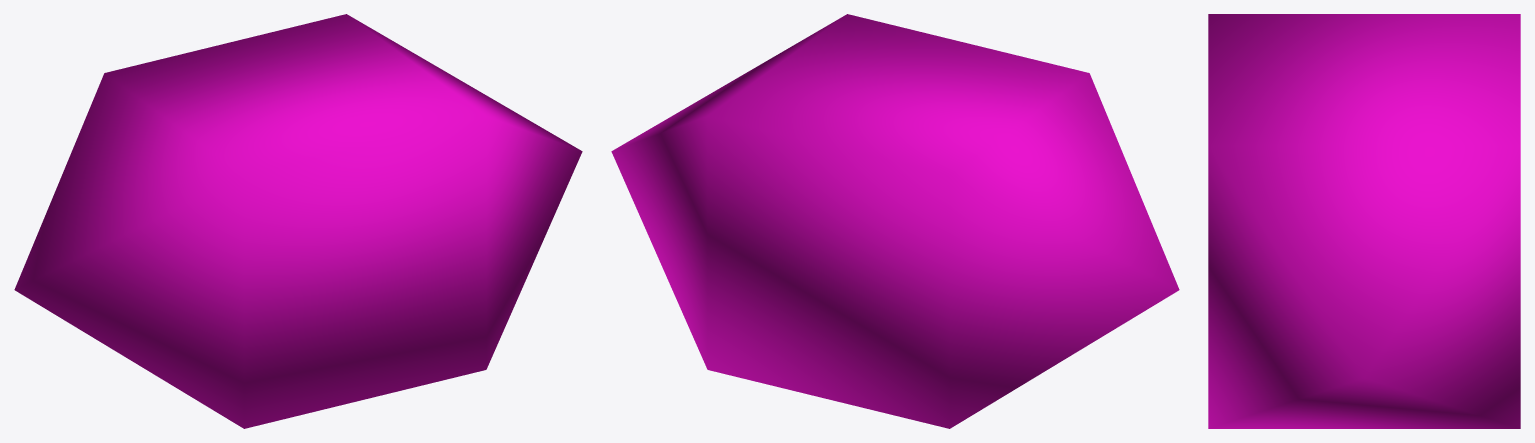
3 views of the same model, side by side, from view 1: azimuth 30°, elevation 25°; view 2: azimuth 150°, elevation 25°; view 3: azimuth 270°, elevation 25° (orthographic). The views are drawn at different scales.
Parts seen in each view (by area): view 1: D4v2; view 2: D4v2; view 3: D4v2.
Part boxes in pixels (box(x1,y1,x2,y2)): D4v2: box(14, 14, 582, 428); D4v2: box(611, 14, 1179, 428); D4v2: box(1208, 14, 1520, 428).
Bounding box in the file's own units: 2.9 × 1.24 × 1.24.
